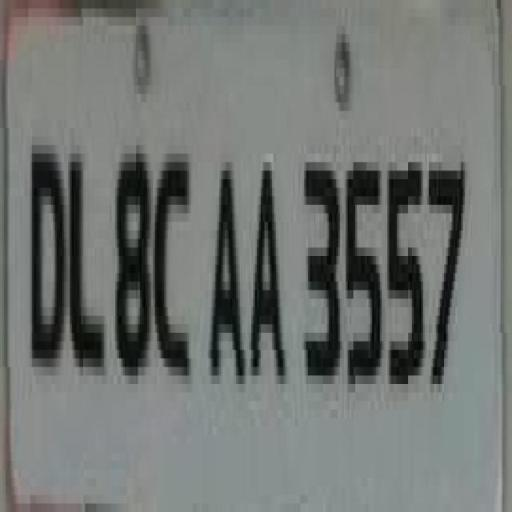number plate: (2, 8, 482, 512)
